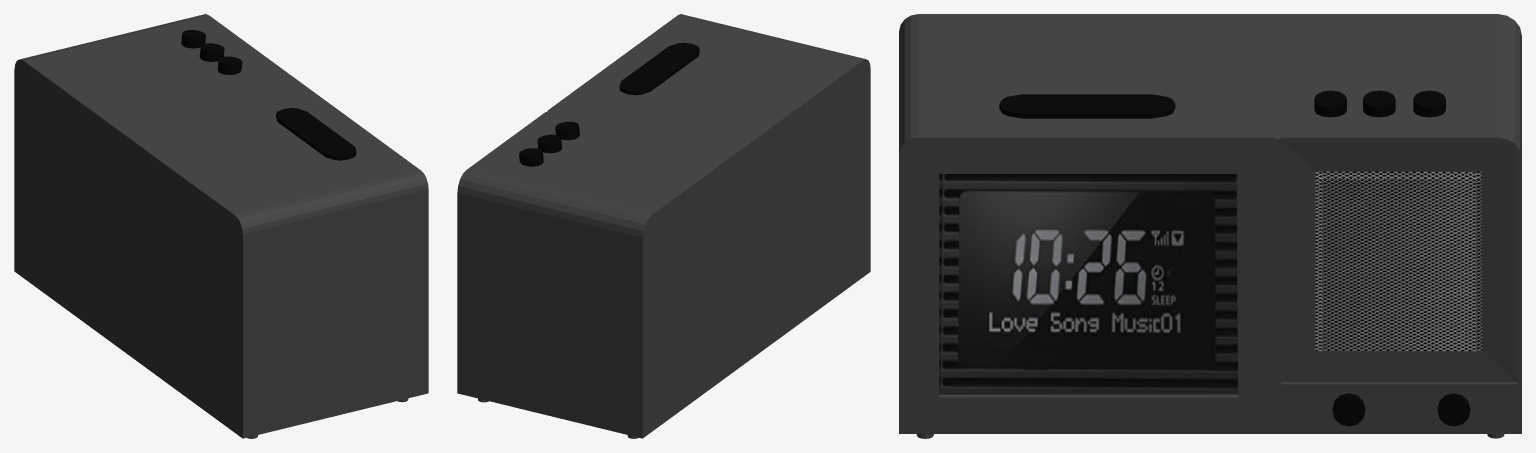
The model's file is radio-réveil.glb.
3 views of the same model, side by side, from view 1: azimuth 30°, elevation 25°; view 2: azimuth 150°, elevation 25°; view 3: azimuth 270°, elevation 25° (orthographic). The views are drawn at different scales.
Parts seen in each view (by area): view 1: Cube; view 2: Cube; view 3: Cube.
Part boxes in pixels (x1,y1,x2,y2): Cube: [14, 14, 428, 438]; Cube: [457, 14, 870, 438]; Cube: [899, 14, 1521, 438].
Bounding box in the file's own units: 0.1212 × 0.1432 × 0.2506.
Materials: 4 (2 with a texture image).
